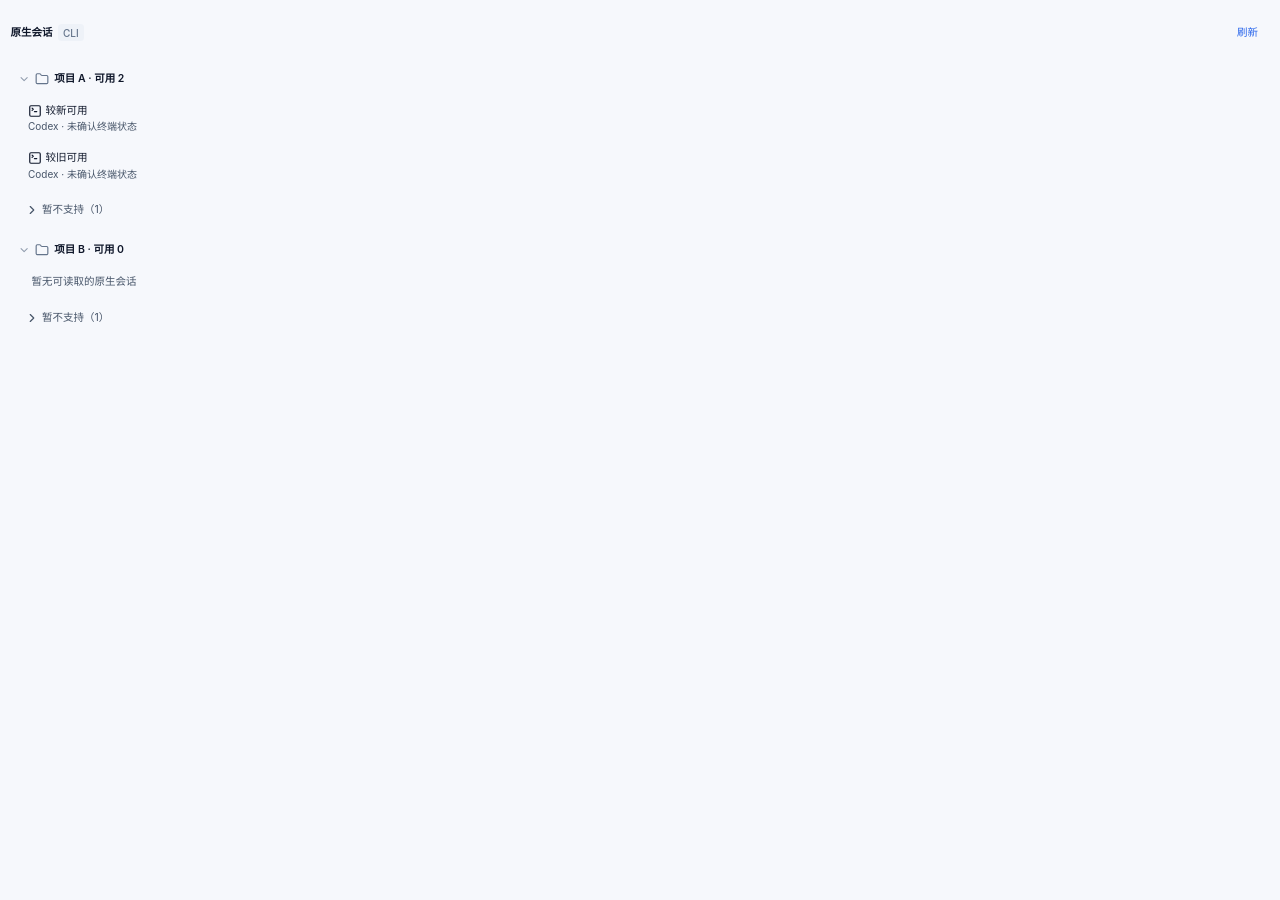
Test: native format availability remote=false › blocks import when the authoritative format changes to unsupported during confirmation
Click the button with test id "native-readable".
click(66, 110)  # box x1=18 y1=96 x2=1270 y2=140
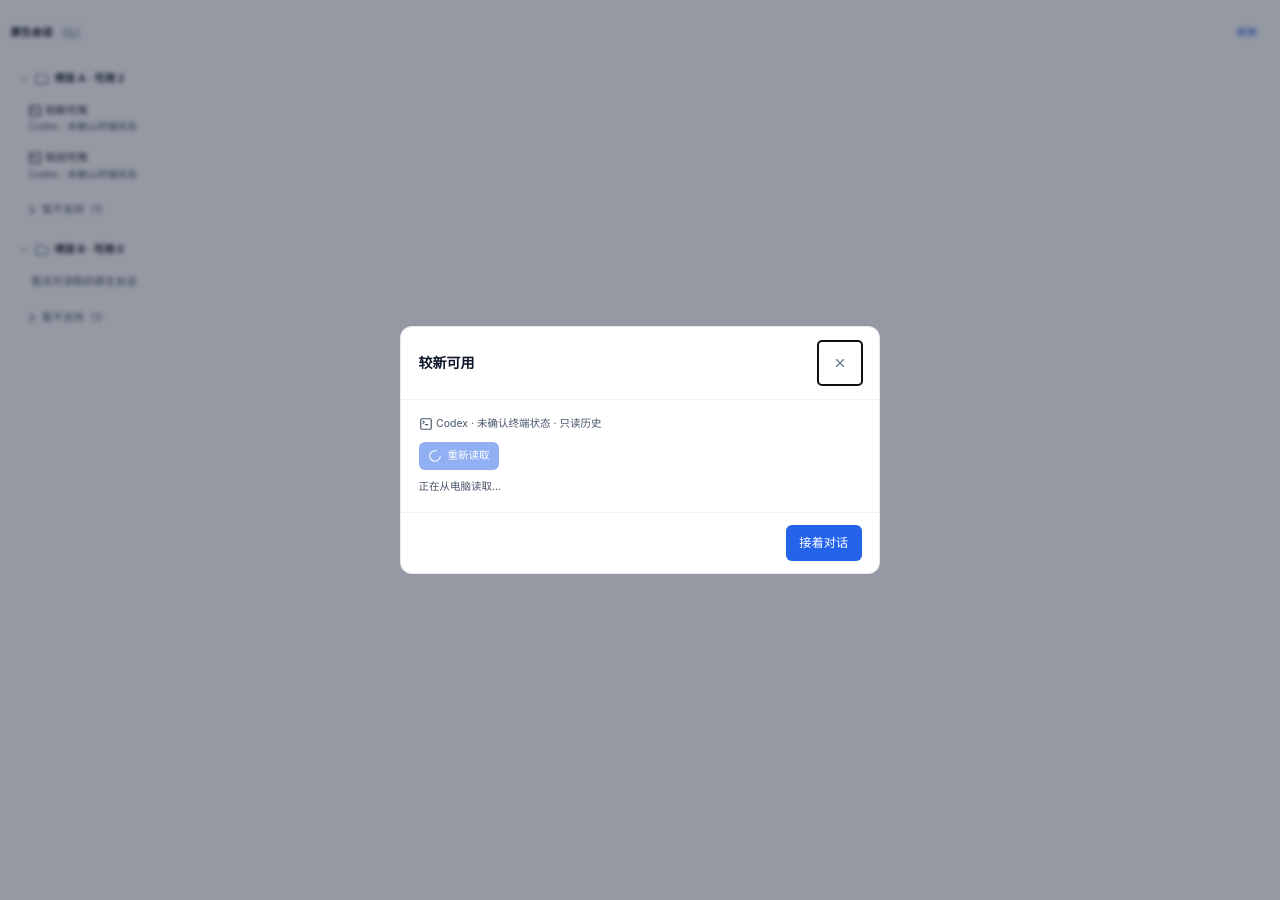
Click the button "接着对话".
click(824, 543)  # box x1=786 y1=525 x2=862 y2=561
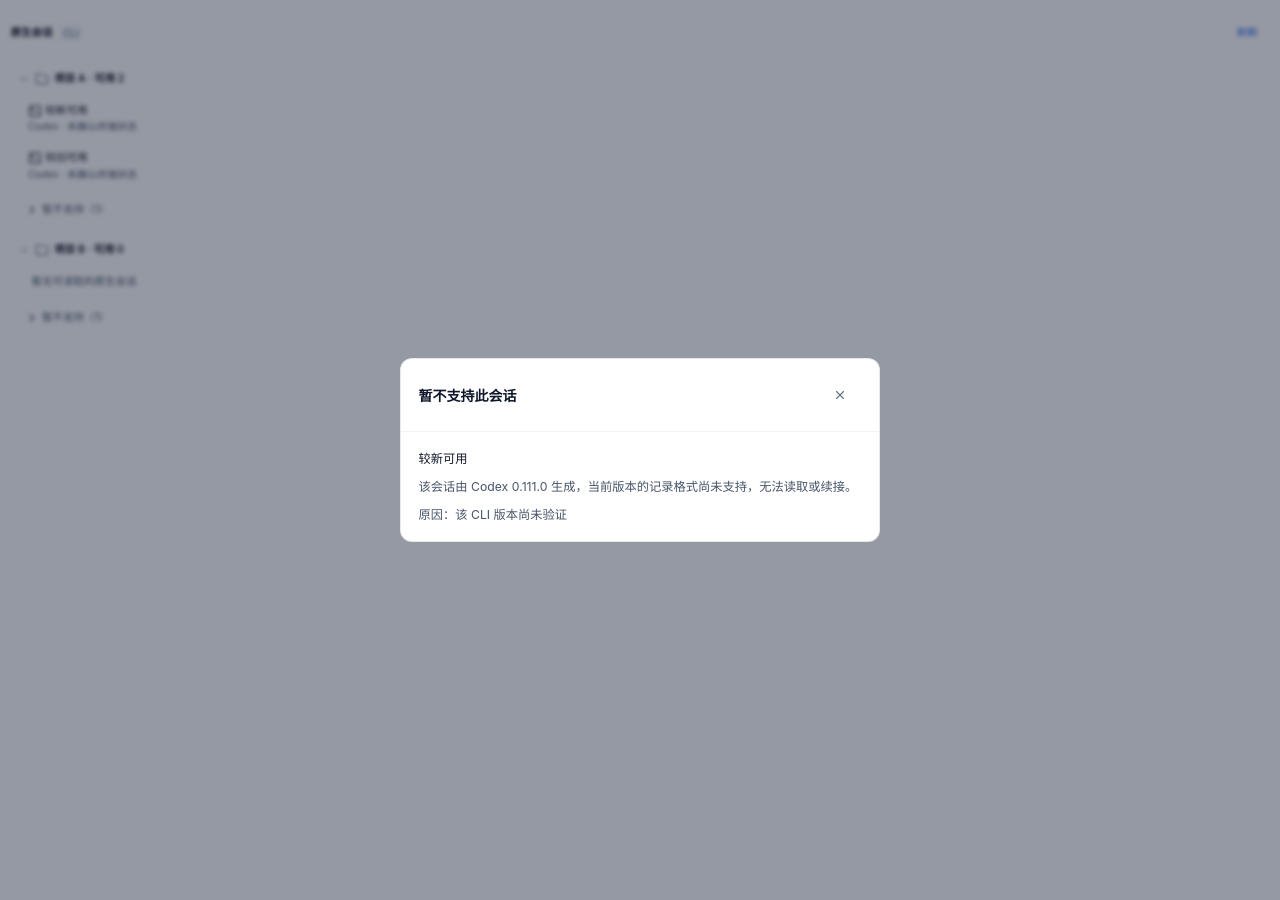
Now the element with test id "native-unavailable-explanation" is shown, box x1=418 y1=450 x2=862 y2=523
